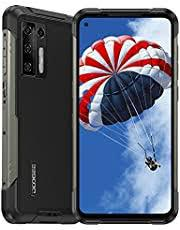Smartphone: (74, 11, 169, 220), (3, 7, 72, 217)
